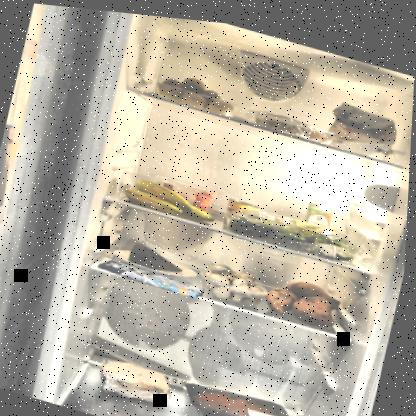banana: (121, 169, 222, 221)
beef: (179, 370, 308, 415)
cheese: (128, 236, 189, 274)
chocolate: (97, 252, 210, 296)
corn: (223, 189, 264, 229)
heavy_cream: (301, 190, 337, 245)
mushrooms: (200, 253, 271, 304)
potato: (155, 64, 243, 115)
shrimp: (254, 107, 337, 140)
spinach: (227, 194, 363, 258)
sweet_potato: (264, 265, 348, 326)
